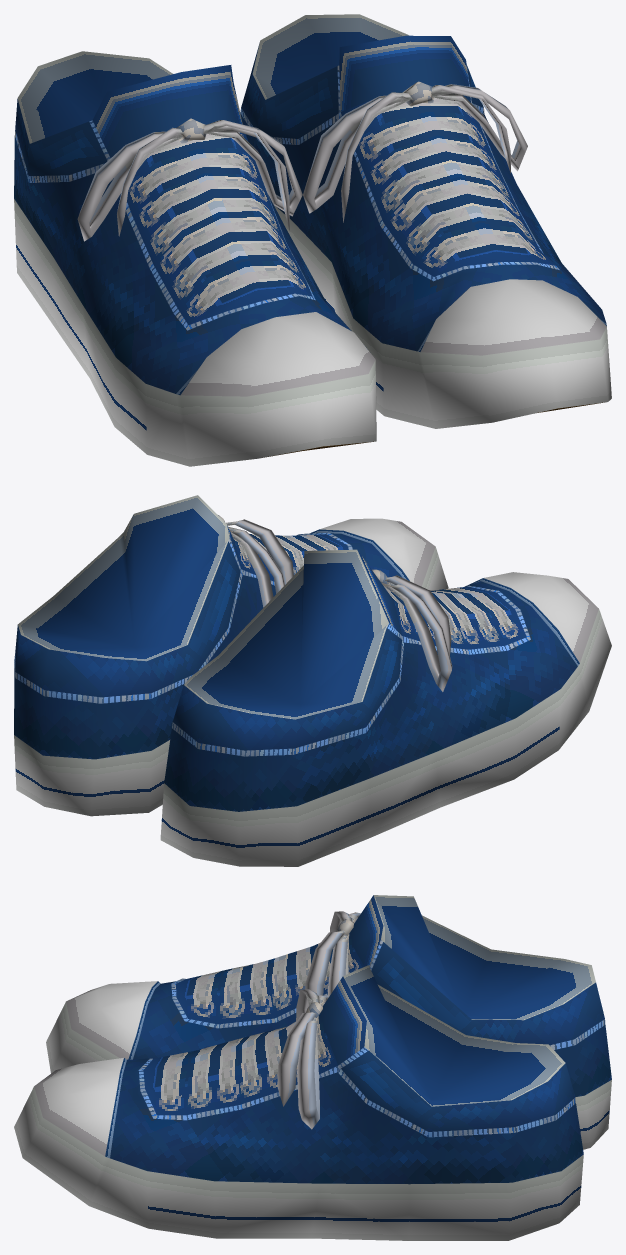
The model's file is tenis.fbx.
3 views of the same model, one above another, from view 1: azimuth 30°, elevation 25°; view 2: azimuth 150°, elevation 25°; view 3: azimuth 270°, elevation 25° (orthographic). The views are drawn at different scales.
Visible parts, largest first — view 1: node_id38; view 2: node_id38; view 3: node_id38.
Boxes of the visible parts, bbox=[...] form: node_id38: bbox=[14, 14, 611, 466]; node_id38: bbox=[14, 495, 611, 866]; node_id38: bbox=[14, 895, 611, 1240].
Size of the model in its own units: 0.5538 by 0.3254 by 0.7735.
Materials: 1 (1 with a texture image).
